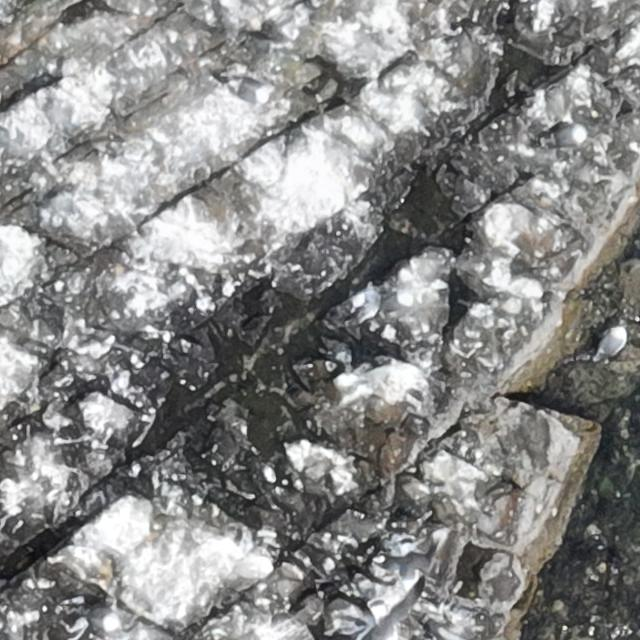umineko: (600, 327, 627, 356), (546, 125, 584, 145), (230, 79, 266, 98), (90, 609, 120, 629)
